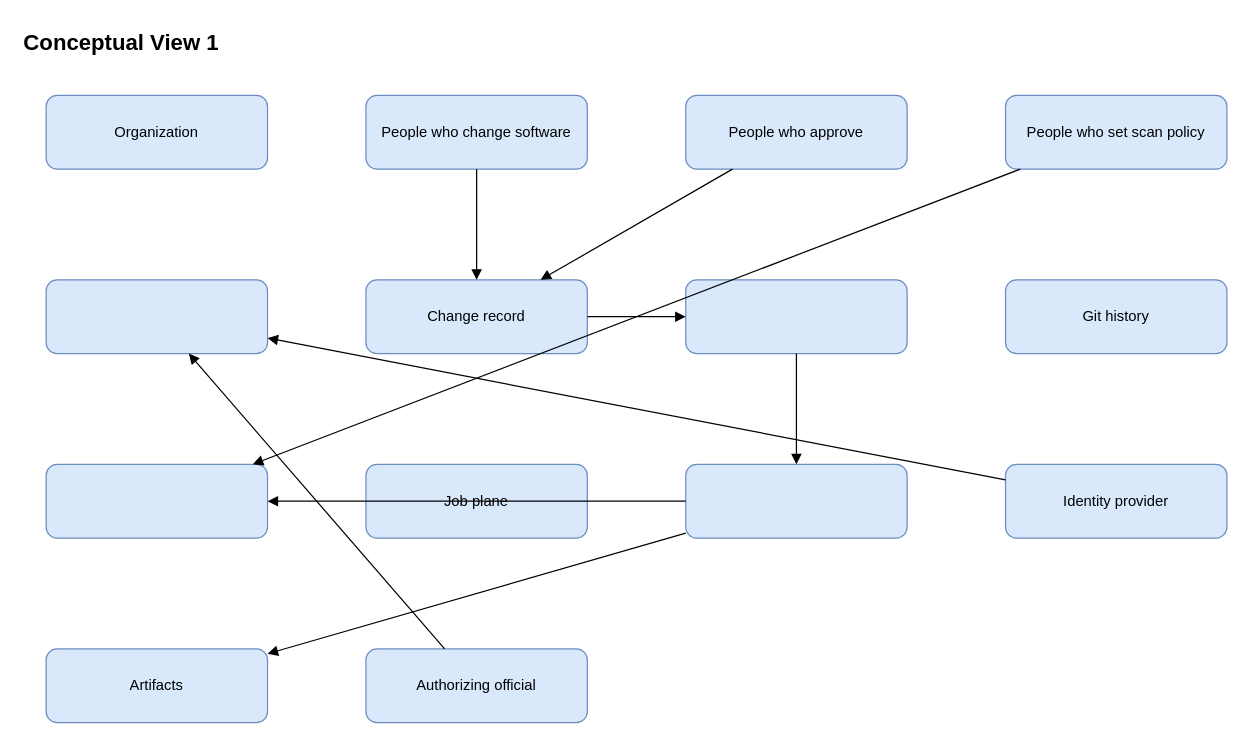
Image size: 1248x744. Some labels were removed from this diagram. The centre of each missing label's shape, as x and y in pixels:
"Control plane" goes at point 156,316.
"Findings" goes at point 156,500.
"Pipeline contract" goes at point 795,316.
"Workers" goes at point 795,500.
